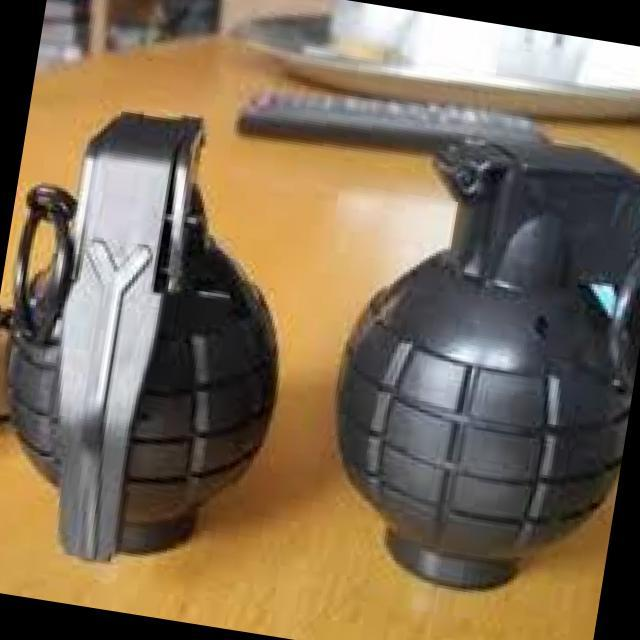grenade: (309, 123, 640, 600)
